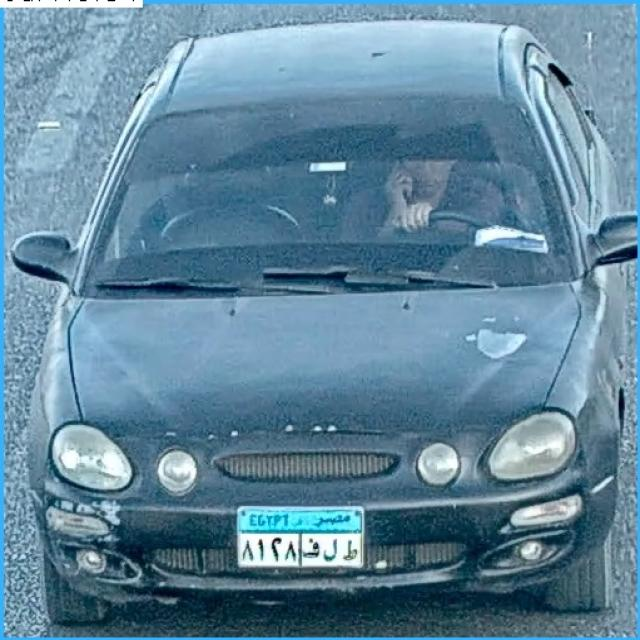windshield: (95, 114, 574, 281)
